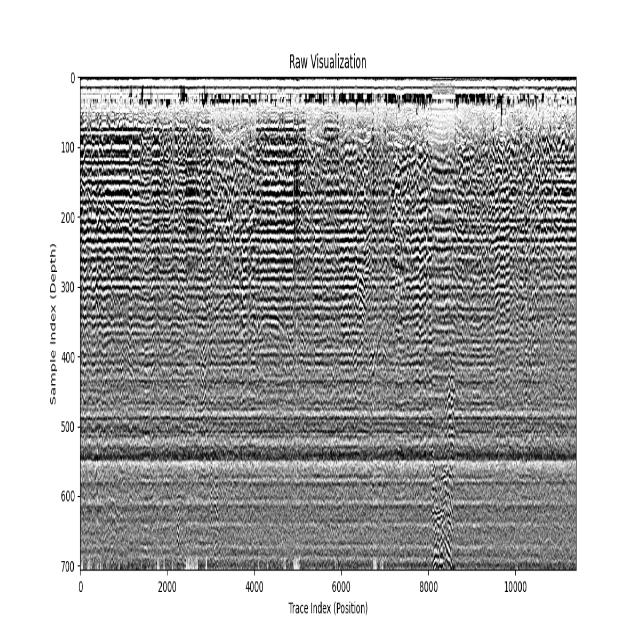anomaly: (436, 180, 456, 572), (232, 304, 304, 379), (413, 156, 433, 384)
